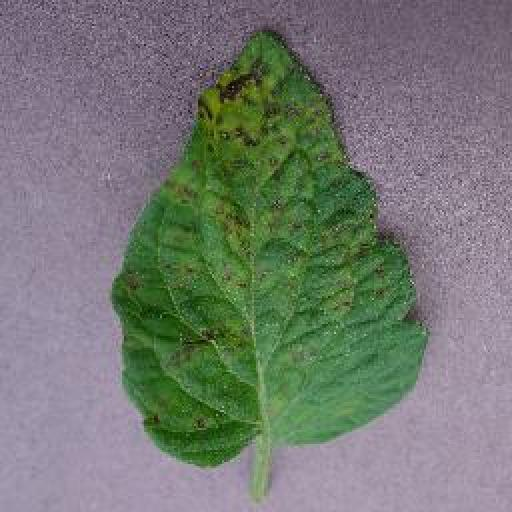Septoria: (111, 22, 426, 466)
